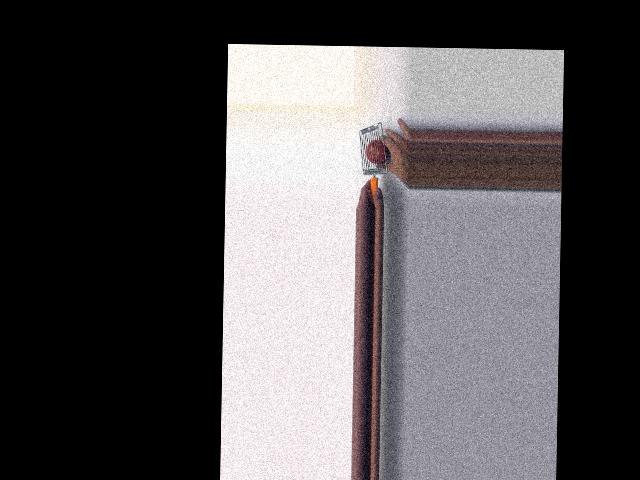tomato: (366, 140, 388, 164)
